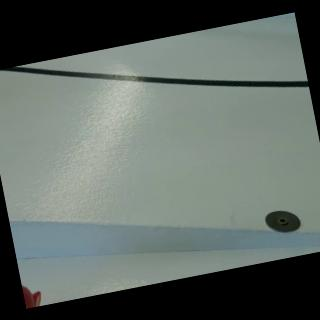teletubby: (22, 285, 39, 308)
